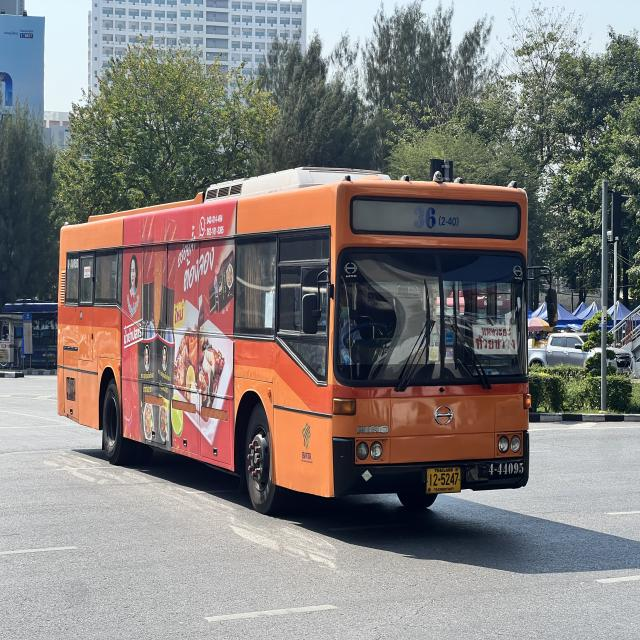BMTA-bus: (55, 162, 535, 515)
Bus-Line-Number: (407, 202, 465, 232)
Destination-Sign-Extra-Bus: (472, 324, 518, 357)
